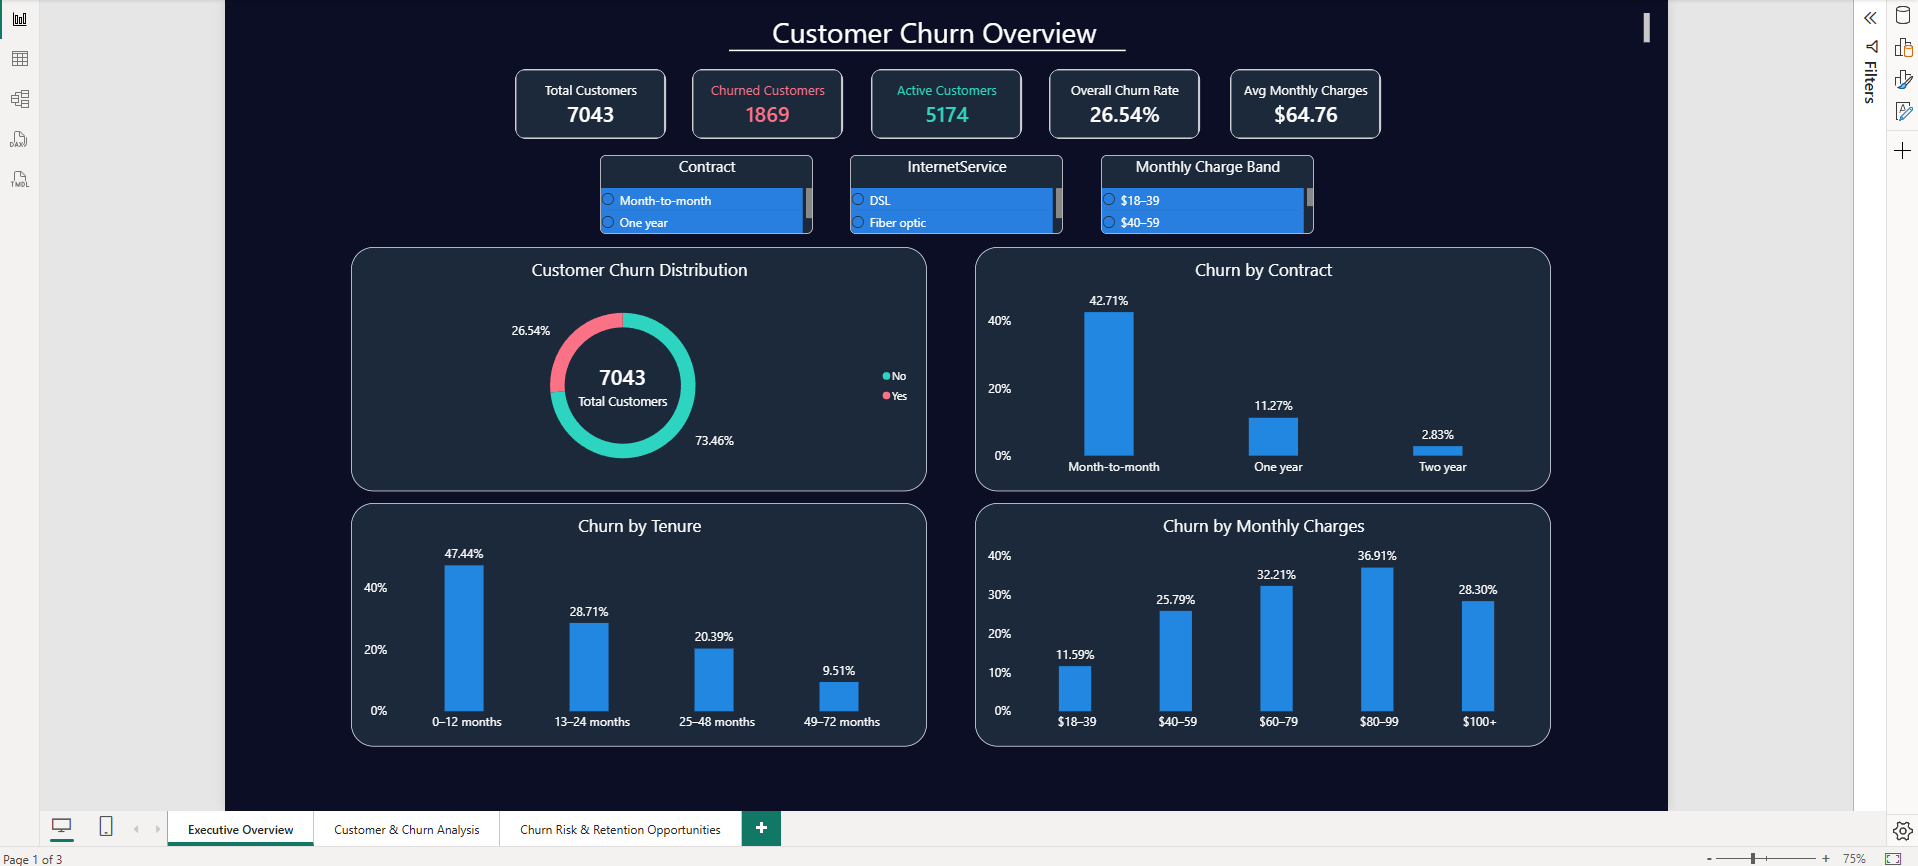

What the dashboard file says about the page in this screenshot:
{"tool":"powerbi","page":{"name":"Executive Overview","canvas":[1920,1080],"ordinal":0},"visuals":[{"type":"donutChart","title":"Customer Churn Distribution","fields":{"Category":["Telco-Customer-Churn.Churn"],"Y":["Measures_.Total Customers"]},"box":[167.5,330,766,324.5],"z":0},{"type":"textbox","box":[0,18.8,1895,63.8],"z":1000},{"type":"cardVisual","fields":{"Data":["Measures_.Churned Customers"]},"box":[621.2,92.5,200.8,93.1],"z":2000},{"type":"cardVisual","fields":{"Data":["Measures_.Active Customers"]},"box":[858.8,92.5,200.8,93.1],"z":3000},{"type":"cardVisual","fields":{"Data":["Measures_.Churn Rate"]},"box":[1096.2,92.5,200.8,93.1],"z":4000},{"type":"cardVisual","fields":{"Data":["Measures_.Average Monthly Charges"]},"box":[1336.2,92.5,200.8,93.1],"z":5000},{"type":"columnChart","title":"Churn by Contract","fields":{"Category":["Telco-Customer-Churn.Contract"],"Y":["Measures_.Churn Rate"]},"box":[997.5,330,766.1,324.5],"z":6000},{"type":"columnChart","title":"Churn by Tenure","fields":{"Category":["Telco-Customer-Churn.Tenure Band"],"Y":["Measures_.Churn Rate"]},"box":[167.5,670,766.5,324],"z":7000},{"type":"columnChart","title":"Churn by Monthly Charges","fields":{"Category":["Telco-Customer-Churn.Monthly Charge Band"],"Y":["Measures_.Churn Rate"]},"box":[997.5,670,766.5,324],"z":8000},{"type":"listSlicer","fields":{"Values":["Telco-Customer-Churn.Contract"]},"box":[498.8,207.5,283.3,105.1],"z":9000},{"type":"listSlicer","fields":{"Values":["Telco-Customer-Churn.InternetService"]},"box":[831.2,207.5,283,105.1],"z":10000},{"type":"listSlicer","fields":{"Values":["Telco-Customer-Churn.Monthly Charge Band"]},"box":[1165,207.5,283,105],"z":11000},{"type":"shape","box":[670,36.2,527.6,65],"z":12000},{"type":"cardVisual","fields":{"Data":["Measures_.Total Customers"]},"box":[386.2,92.5,200.8,93.1],"z":13000}]}

Visuals, with their boxes on the page's 1920x1080 design canvas (x1, y1, x2, y2). These are canvas units, not pixel positions in the 1918x866 screenshot, which may show the page scaled, cropped or inside an application window:
"Customer Churn Distribution" donutChart: Rect(168, 330, 934, 654)
textbox: Rect(0, 19, 1895, 83)
cardVisual - Measures_.Churned Customers: Rect(621, 92, 822, 186)
cardVisual - Measures_.Active Customers: Rect(859, 92, 1060, 186)
cardVisual - Measures_.Churn Rate: Rect(1096, 92, 1297, 186)
cardVisual - Measures_.Average Monthly Charges: Rect(1336, 92, 1537, 186)
"Churn by Contract" columnChart: Rect(998, 330, 1764, 654)
"Churn by Tenure" columnChart: Rect(168, 670, 934, 994)
"Churn by Monthly Charges" columnChart: Rect(998, 670, 1764, 994)
listSlicer - Telco-Customer-Churn.Contract: Rect(499, 208, 782, 313)
listSlicer - Telco-Customer-Churn.InternetService: Rect(831, 208, 1114, 313)
listSlicer - Telco-Customer-Churn.Monthly Charge Band: Rect(1165, 208, 1448, 312)
shape: Rect(670, 36, 1198, 101)
cardVisual - Measures_.Total Customers: Rect(386, 92, 587, 186)
